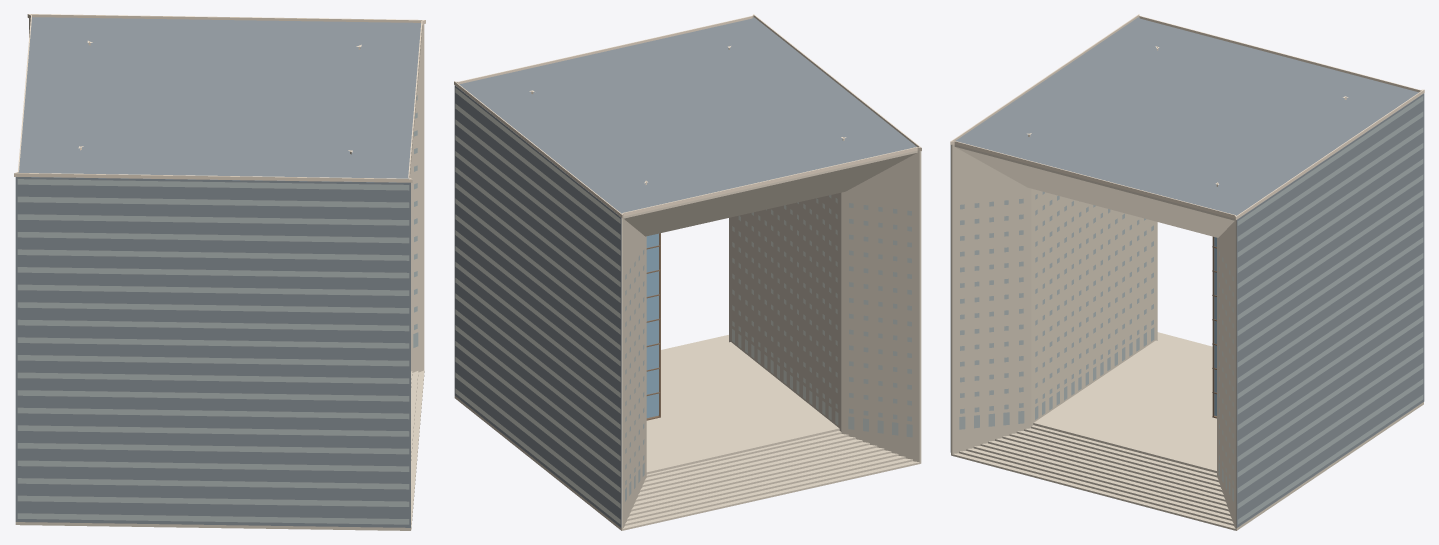
3 views of the same model, side by side, from view 1: azimuth 30°, elevation 25°; view 2: azimuth 150°, elevation 25°; view 3: azimuth 270°, elevation 25° (orthographic). The views are drawn at different scales.
Visible parts, largest first — view 1: roof, window, stone, trim; view 2: roof, stone, window, trim, glass, metal; view 3: roof, stone, window, trim, metal.
Boxes of the visible parts, box(x1,y1,x2,y2) form: roof: box(15, 17, 421, 527); window: box(17, 95, 418, 524); stone: box(15, 18, 424, 530); trim: box(14, 14, 425, 182); roof: box(454, 17, 916, 527); stone: box(454, 150, 921, 530); window: box(455, 88, 912, 524); trim: box(454, 14, 921, 217); glass: box(646, 233, 658, 417); metal: box(646, 233, 660, 420); roof: box(950, 17, 1424, 527); stone: box(951, 144, 1423, 530); window: box(959, 96, 1423, 524); trim: box(950, 14, 1424, 219); metal: box(1212, 236, 1216, 418).
Bounding box in the file's own units: 152 × 110 × 151.
